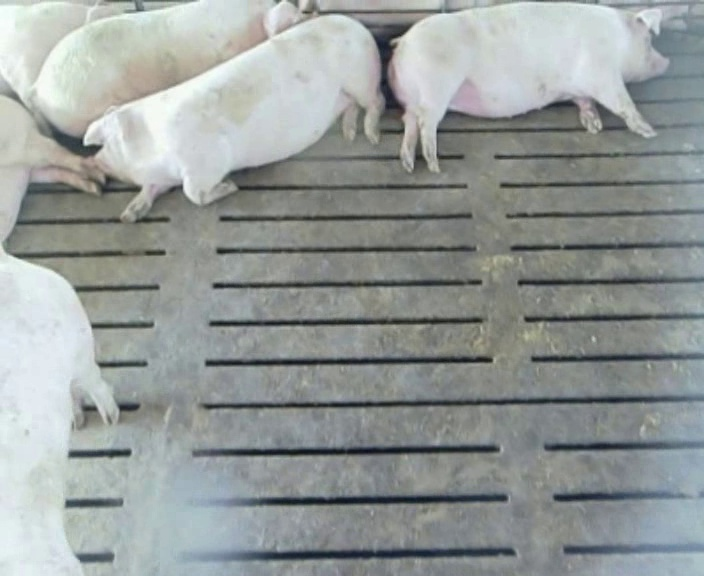pig: (84, 16, 383, 221), (388, 3, 668, 171), (33, 2, 318, 137), (0, 2, 122, 136)
